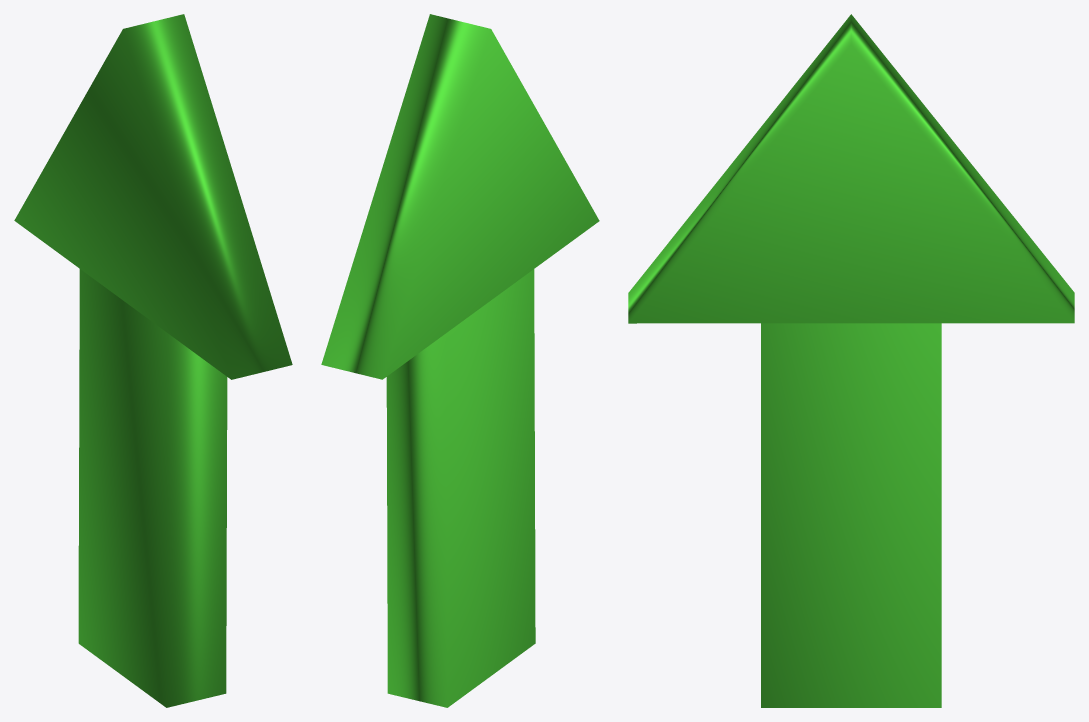
The model's file is uploads_files_4083314_arrow_2.glb.
3 views of the same model, side by side, from view 1: azimuth 30°, elevation 25°; view 2: azimuth 150°, elevation 25°; view 3: azimuth 270°, elevation 25° (orthographic). The views are drawn at different scales.
Visible parts, largest first — view 1: Cube, Cylinder; view 2: Cube, Cylinder; view 3: Cylinder, Cube.
Part boxes in pixels (x1=…): Cube: x1=78, y1=269, x2=227, y2=707; Cylinder: x1=14, y1=14, x2=292, y2=379; Cube: x1=386, y1=269, x2=535, y2=707; Cylinder: x1=321, y1=14, x2=599, y2=379; Cylinder: x1=628, y1=14, x2=1074, y2=323; Cube: x1=761, y1=323, x2=941, y2=707.
Size of the model in its own units: 0.5736 by 5.75 by 3.5.
